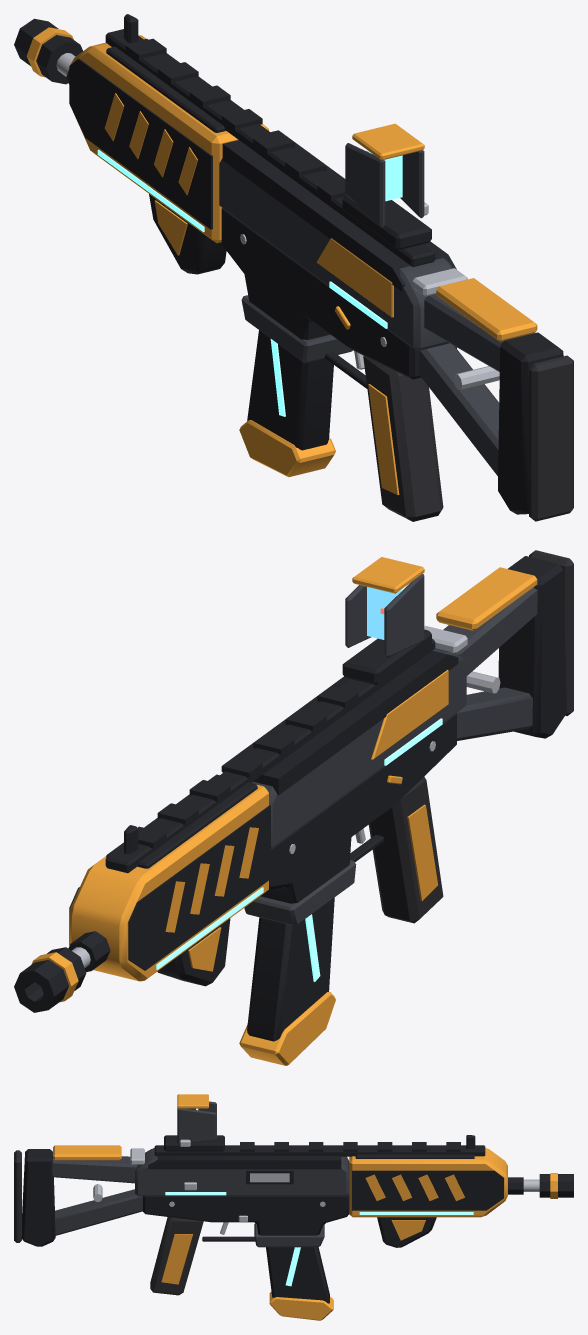
The model's file is ARX27.glb.
The picture shows the model from 3 angles, top to bottom: view 1: azimuth 30°, elevation 25°; view 2: azimuth 150°, elevation 25°; view 3: azimuth 270°, elevation 25°; orthographic projection. The views are drawn at different scales.
Parts seen in each view (by area): view 1: Lower, HandguardCore, Body, Grip, ButtPad, Mag, Brow, StockButt, Handguard, Rail, StockLower, CheekRest (+18 smaller); view 2: Lower, Handguard, HandguardCore, Mag, StockButt, Body, Brow, Grip, Rail, CheekRest, StockLower, MagPlate (+18 smaller); view 3: Lower, Body, HandguardCore, Handguard, StockButt, Mag, Brow, Rail, StockLower, Grip, StockTop, SightWallR (+15 smaller).
Boxes of the visible parts, left/top/right/bottom form: Lower: left=221, top=208, right=456, bottom=379; HandguardCore: left=69, top=58, right=212, bottom=229; Body: left=219, top=158, right=452, bottom=350; Grip: left=363, top=356, right=443, bottom=521; ButtPad: left=529, top=355, right=573, bottom=521; Mag: left=247, top=330, right=333, bottom=450; Brow: left=222, top=130, right=456, bottom=291; StockButt: left=498, top=332, right=563, bottom=514; Handguard: left=70, top=35, right=268, bottom=243; Rail: left=105, top=29, right=435, bottom=266; StockLower: left=419, top=343, right=499, bottom=475; CheekRest: left=436, top=278, right=537, bottom=341; Lower: left=260, top=713, right=456, bottom=903; Handguard: left=70, top=785, right=268, bottom=981; HandguardCore: left=69, top=805, right=270, bottom=970; Mag: left=247, top=897, right=334, bottom=1041; StockButt: left=498, top=556, right=566, bottom=738; Body: left=252, top=648, right=466, bottom=848; Brow: left=222, top=650, right=458, bottom=795; Grip: left=368, top=776, right=443, bottom=923; Rail: left=105, top=639, right=435, bottom=873; CheekRest: left=436, top=567, right=537, bottom=630; StockLower: left=456, top=687, right=532, bottom=740; MagPlate: left=239, top=991, right=335, bottom=1065; Lower: left=143, top=1194, right=349, bottom=1235; Body: left=135, top=1148, right=349, bottom=1196; HandguardCore: left=352, top=1170, right=503, bottom=1210; Handguard: left=349, top=1148, right=507, bottom=1217; StockButt: left=21, top=1149, right=55, bottom=1246; Mag: left=266, top=1247, right=329, bottom=1303; Brow: left=148, top=1148, right=341, bottom=1169; Rail: left=154, top=1145, right=485, bottom=1156; StockLower: left=55, top=1189, right=142, bottom=1235; Grip: left=150, top=1217, right=203, bottom=1295; StockTop: left=52, top=1156, right=137, bottom=1183; SightWallR: left=177, top=1108, right=216, bottom=1144.
Size of the model in its own units: 0.295 by 1.81 by 4.24.
